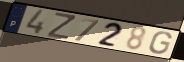2: (95, 21, 125, 49)
4: (24, 9, 46, 36)
7: (73, 17, 101, 42)
8: (124, 26, 147, 52)
G: (148, 31, 174, 55)
Z: (46, 11, 77, 41)
